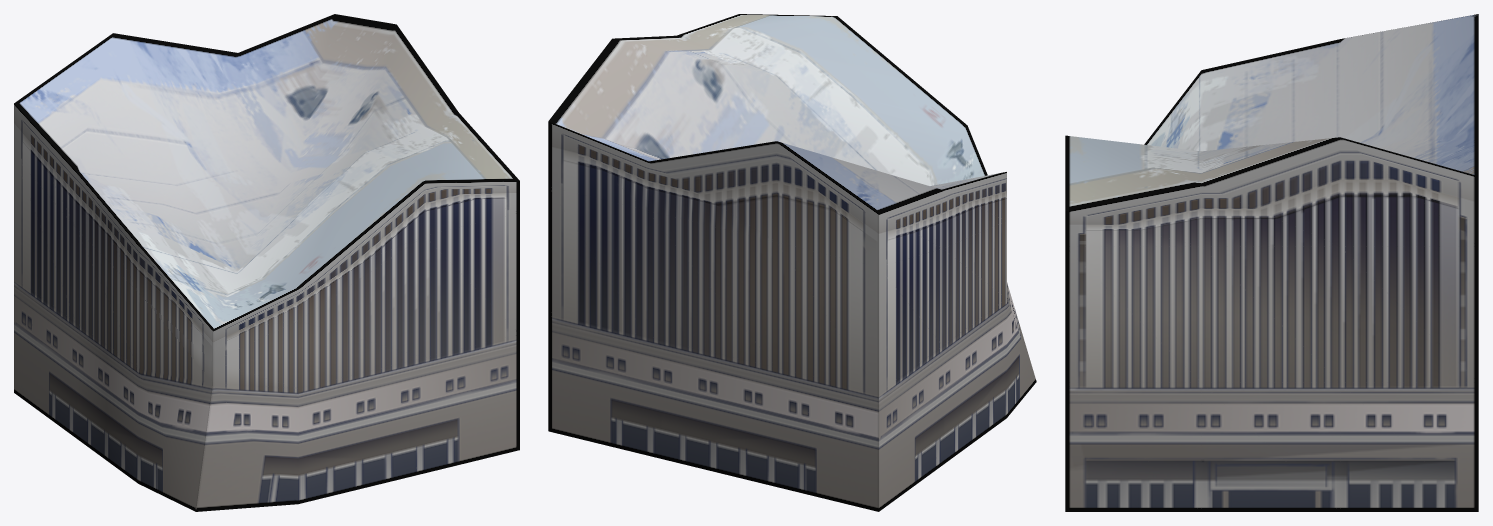
File: bg_building_des3.fbx
The picture shows the model from 3 angles, left to right: view 1: azimuth 30°, elevation 25°; view 2: azimuth 150°, elevation 25°; view 3: azimuth 270°, elevation 25°; orthographic projection. The views are drawn at different scales.
Parts seen in each view (by area): view 1: Cube; view 2: Cube; view 3: Cube.
Boxes of the visible parts, <box> form: Cube: <box>14,14,519,511</box>; Cube: <box>548,14,1036,511</box>; Cube: <box>1065,14,1478,511</box>.
Bounding box in the file's own units: 2 × 2 × 2.
